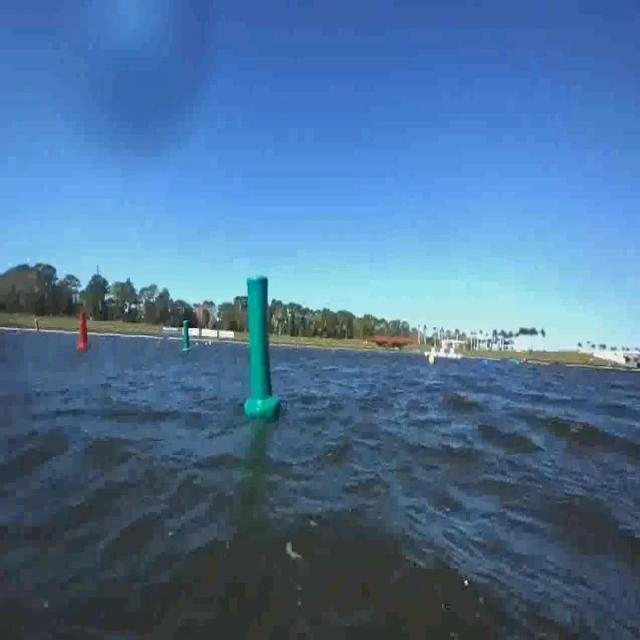green-column-buoy: (245, 272, 281, 419), (183, 320, 195, 356)
red-column-buoy: (77, 313, 90, 353)
yellow-buoy: (428, 353, 436, 368)
